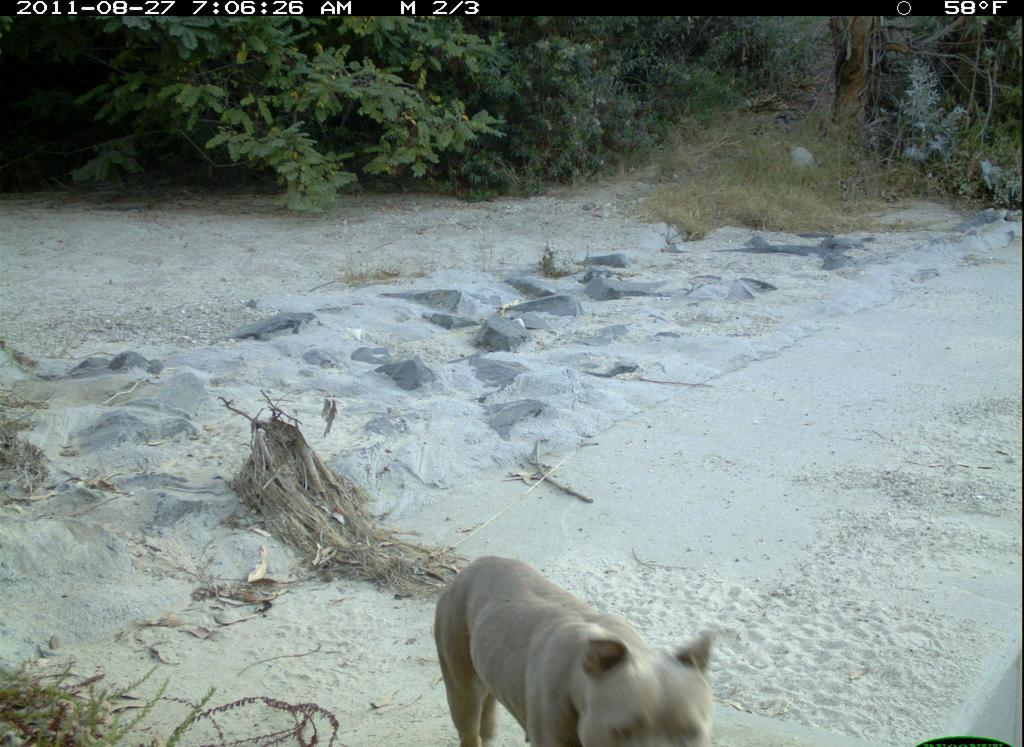dog: (428, 540, 736, 747)
